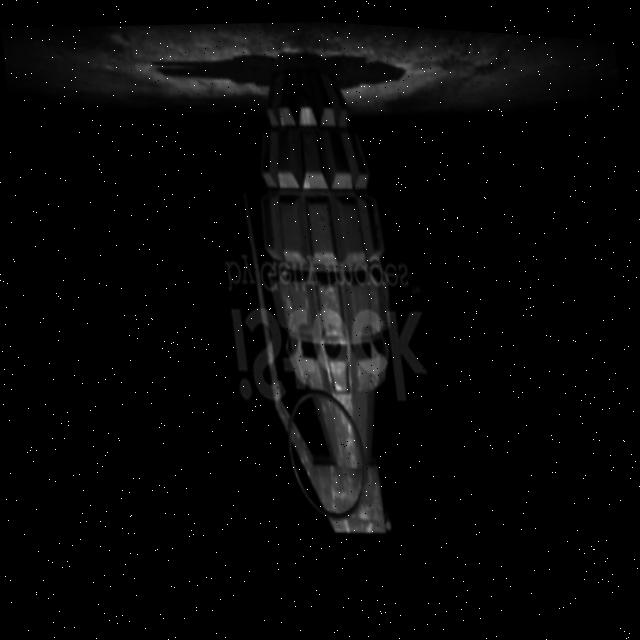grenade: (209, 51, 437, 554)
